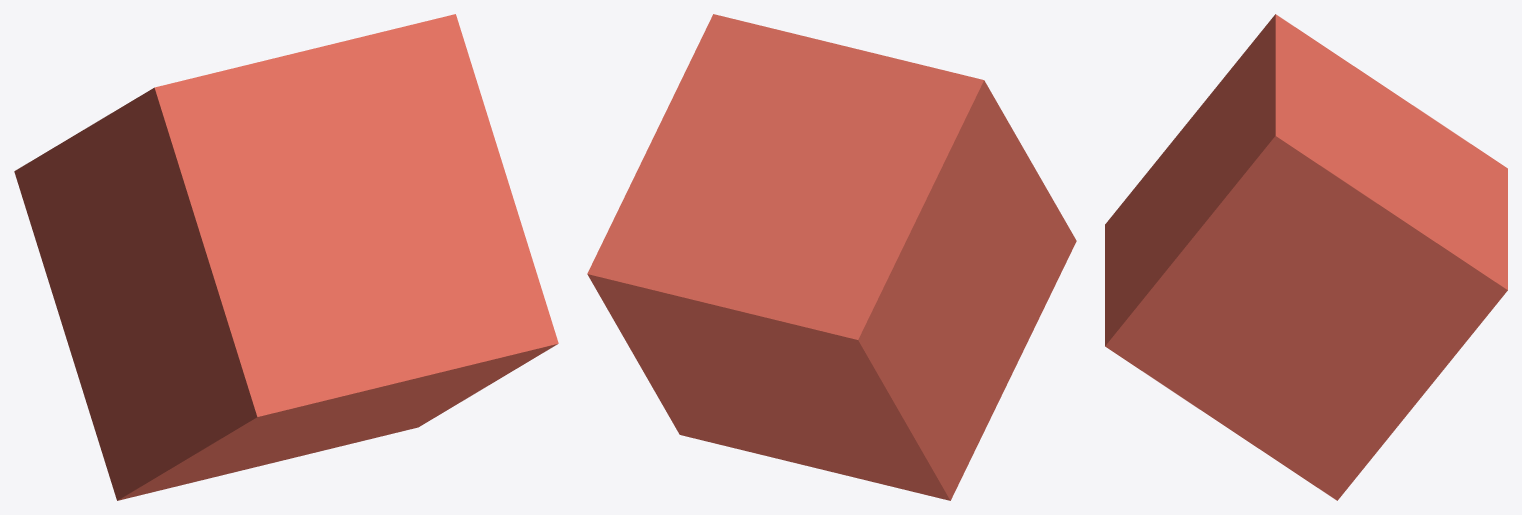
3 renders of one model, left to right at view 1: azimuth 30°, elevation 25°; view 2: azimuth 150°, elevation 25°; view 3: azimuth 270°, elevation 25°, orthographic. The views are drawn at different scales.
Parts seen in each view (by area): view 1: Cube; view 2: Cube; view 3: Cube.
Part boxes in pixels (left/top/right/bottom): Cube: left=14, top=14, right=558, bottom=500; Cube: left=587, top=14, right=1076, bottom=500; Cube: left=1105, top=14, right=1507, bottom=500.
Bounding box in the file's own units: 2 × 2.8 × 2.8.
